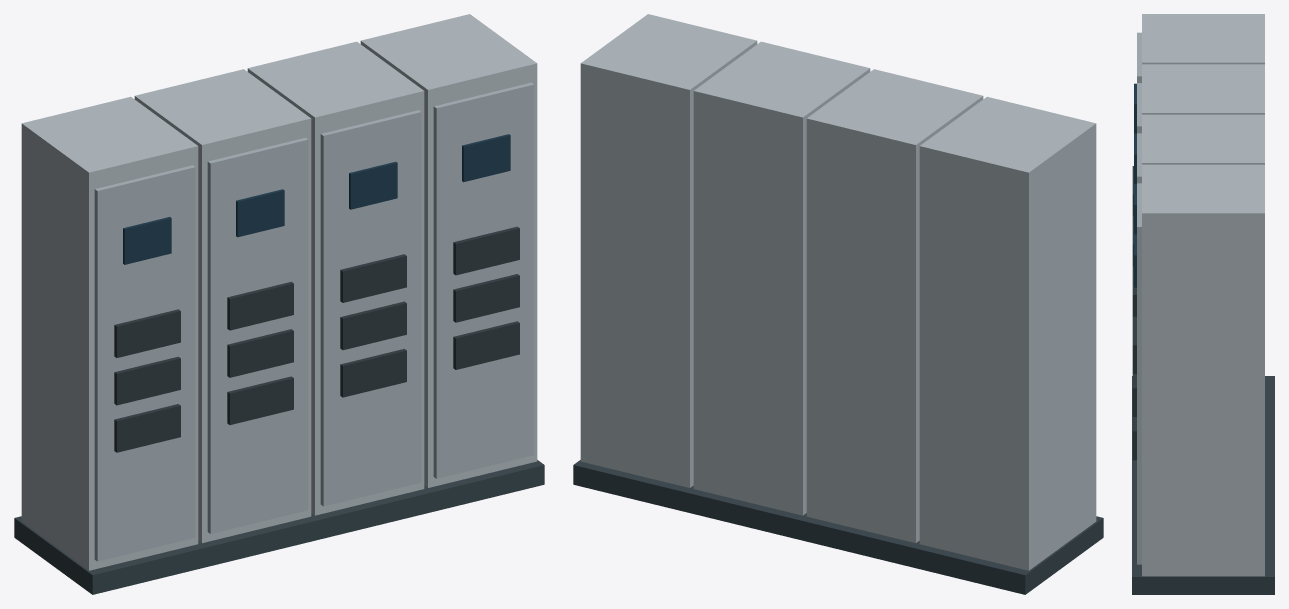
File: main-switchboard.glb
The picture shows the model from 3 angles, left to right: view 1: azimuth 30°, elevation 25°; view 2: azimuth 150°, elevation 25°; view 3: azimuth 270°, elevation 25°; orthographic projection. The views are drawn at different scales.
Parts seen in each view (by area): view 1: Vertical section 1, Section door 4, Section door 3, Section door 2, Section door 1, Vertical section 2, Vertical section 4, Vertical section 3, Main bus plinth, Breaker 4-2, Breaker 1-2, Breaker 1-3 (+13 smaller); view 2: Vertical section 1, Vertical section 2, Vertical section 3, Vertical section 4, Main bus plinth; view 3: Vertical section 4, Vertical section 1, Vertical section 2, Vertical section 3, Main bus plinth, Section door 4, Breaker 4-1, Section door 1, Section door 2, Section door 3, Breaker 4-3, Breaker 4-2.
Boxes of the visible parts, <box> form: Vertical section 1: <box>21,96,198,570</box>; Section door 4: <box>433,82,534,478</box>; Section door 3: <box>320,110,421,506</box>; Section door 2: <box>207,137,308,533</box>; Section door 1: <box>94,165,195,561</box>; Vertical section 2: <box>134,69,311,543</box>; Vertical section 4: <box>360,14,537,487</box>; Vertical section 3: <box>247,41,424,515</box>; Main bus plinth: <box>14,460,544,594</box>; Breaker 4-2: <box>453,274,519,322</box>; Breaker 1-2: <box>114,356,180,405</box>; Breaker 1-3: <box>114,404,180,452</box>; Vertical section 1: <box>919,96,1096,570</box>; Vertical section 2: <box>806,69,983,543</box>; Vertical section 3: <box>693,41,870,515</box>; Vertical section 4: <box>580,14,757,487</box>; Main bus plinth: <box>573,460,1103,594</box>; Vertical section 4: <box>1142,164,1264,576</box>; Vertical section 1: <box>1142,14,1264,64</box>; Vertical section 2: <box>1142,64,1264,114</box>; Vertical section 3: <box>1142,114,1264,164</box>; Main bus plinth: <box>1132,376,1274,594</box>; Section door 4: <box>1137,183,1141,564</box>; Breaker 4-1: <box>1132,316,1136,373</box>; Section door 1: <box>1137,32,1141,82</box>; Section door 2: <box>1137,83,1141,133</box>; Section door 3: <box>1137,133,1141,183</box>; Breaker 4-3: <box>1132,417,1136,460</box>; Breaker 4-2: <box>1132,374,1136,416</box>.
Size of the model in its own units: 2.4 by 2.12 by 0.72.
